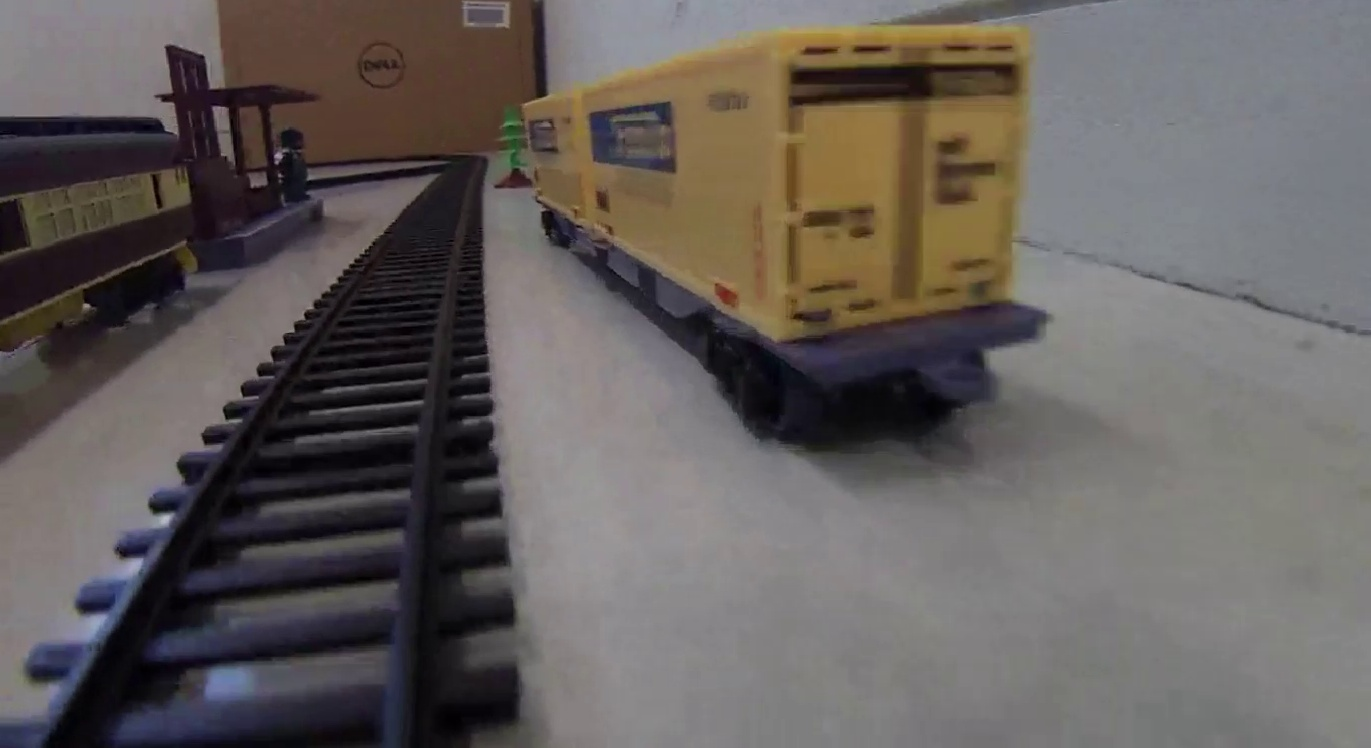people: (275, 128, 312, 204)
tree: (491, 105, 530, 186)
